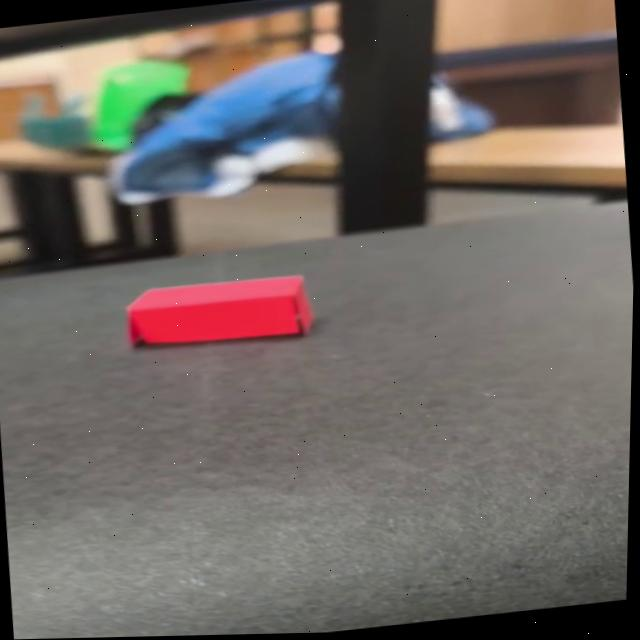red block: (123, 267, 317, 354)
